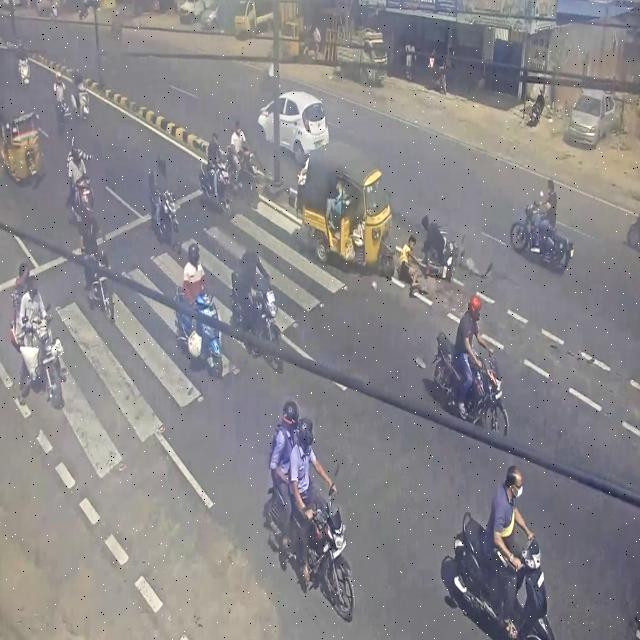accident: (295, 143, 496, 307)
